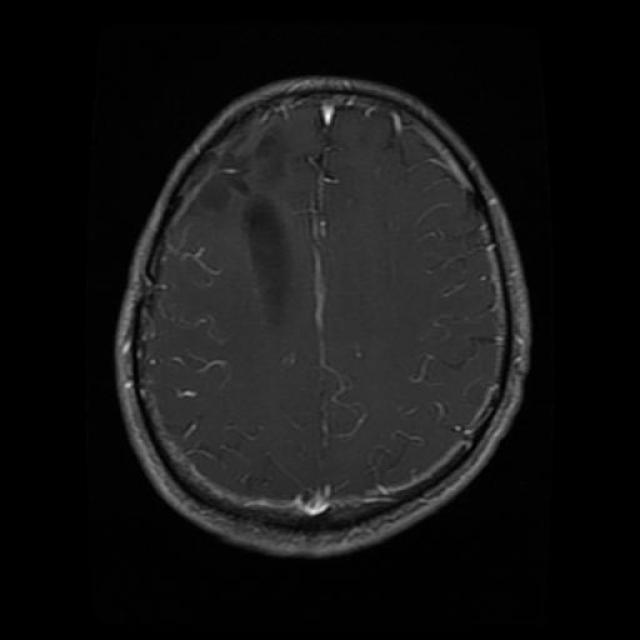glioma: (242, 196, 308, 339)
